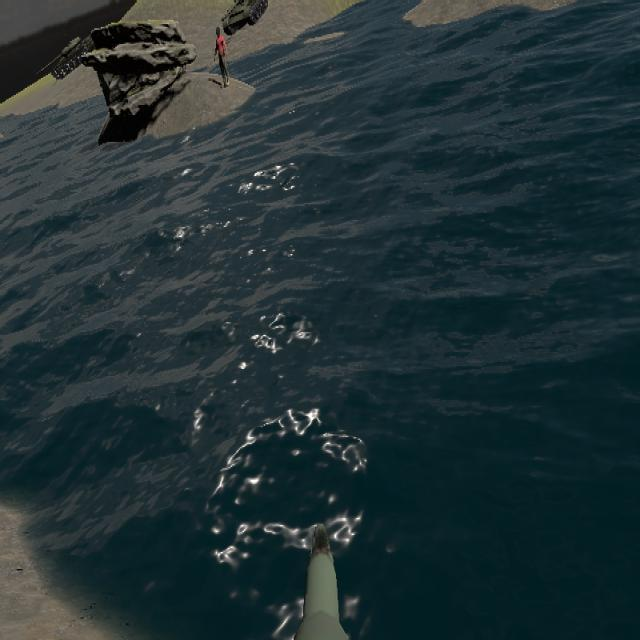Human: (214, 26, 230, 88)
Tank: (221, 0, 268, 35)
